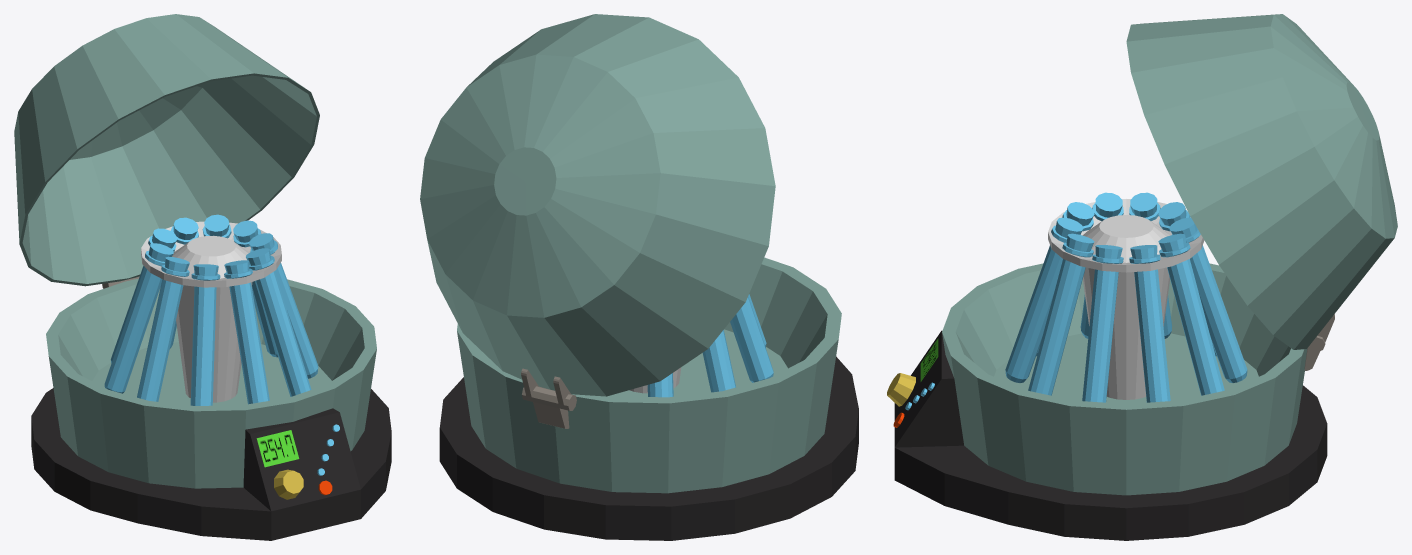
Rendered from centrifuge.fbx.
The picture shows the model from 3 angles, left to right: view 1: azimuth 30°, elevation 25°; view 2: azimuth 150°, elevation 25°; view 3: azimuth 270°, elevation 25°; orthographic projection. The views are drawn at different scales.
Visible parts, largest first — view 1: Centrifuge; view 2: Centrifuge; view 3: Centrifuge.
Part boxes in pixels (x1,y1,x2,y2): Centrifuge: (14, 14, 391, 540); Centrifuge: (420, 14, 858, 540); Centrifuge: (887, 14, 1397, 540).
Size of the model in its own units: 48.97 by 57.8 by 62.29.
1 material, 1 textured.
